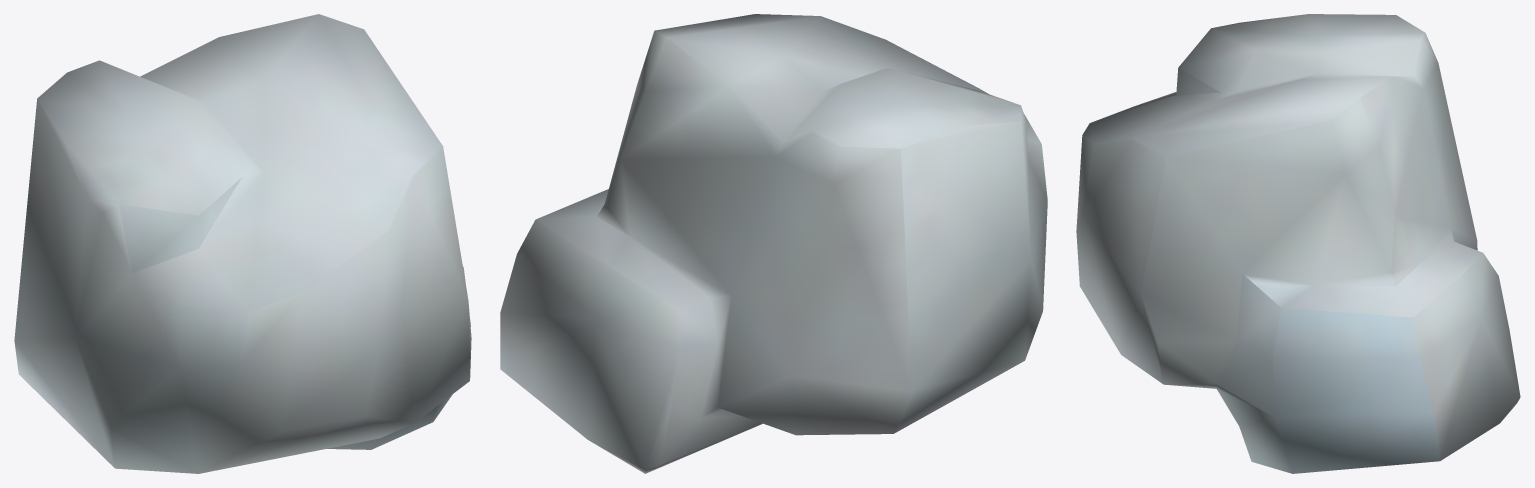
The model's file is P_RockSpire_Rock06.obj.
3 renders of one model, left to right at view 1: azimuth 30°, elevation 25°; view 2: azimuth 150°, elevation 25°; view 3: azimuth 270°, elevation 25°, orthographic. The views are drawn at different scales.
Size of the model in its own units: 5.05 by 4.31 by 4.88.
